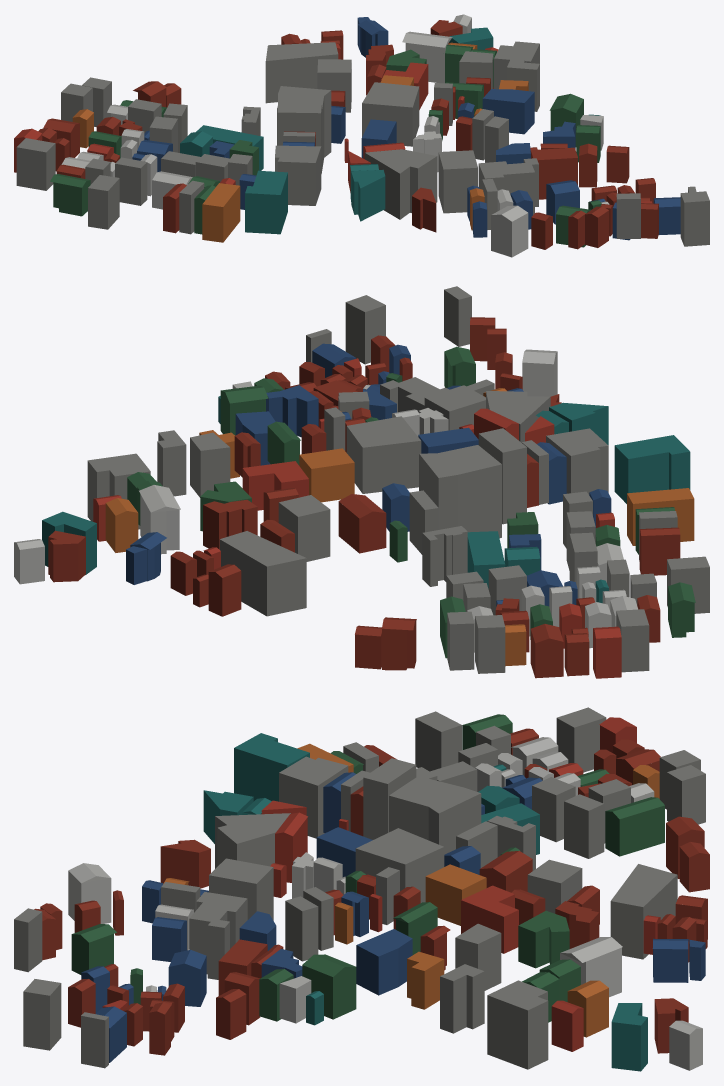
The model's file is near-17-109438-59477.b3a6f9a5.glb.
The picture shows the model from 3 angles, top to bottom: view 1: azimuth 30°, elevation 25°; view 2: azimuth 150°, elevation 25°; view 3: azimuth 270°, elevation 25°; orthographic projection. The views are drawn at different scales.
Size of the model in its own units: 310 by 60.12 by 299.
